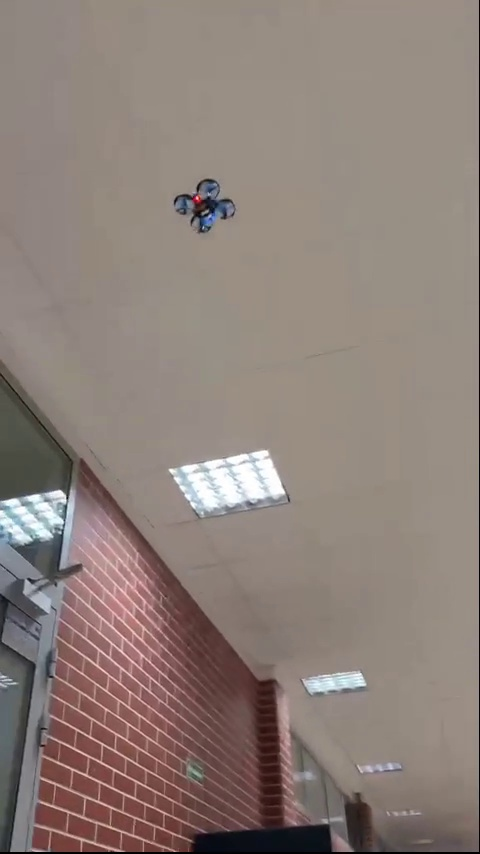drone: (176, 180, 236, 234)
